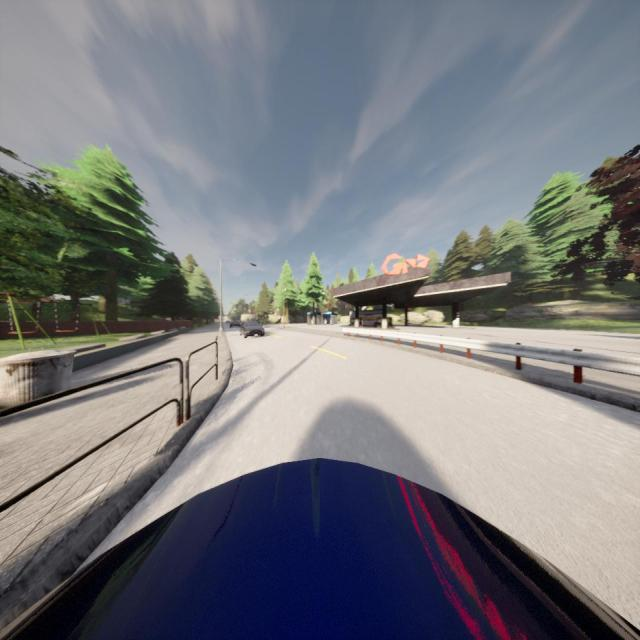Vehicle: (0, 456, 640, 640), (240, 321, 265, 338), (230, 319, 240, 328)
